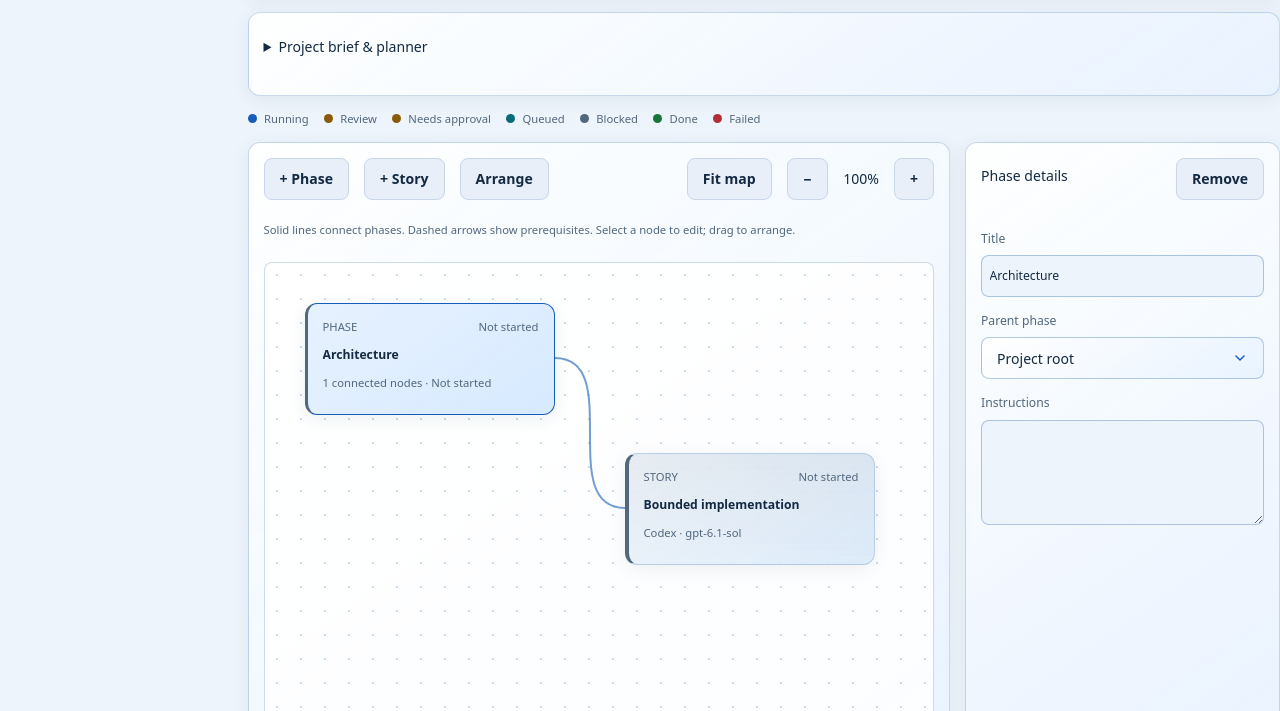
it: edits the visual map without starting a model; saved revisions retain assignments and links
(page scrolled)
Step 1. Click the button with aria-label "story: Bounded implementation" → {"x": 750, "y": 508}, box [624,452,874,564]
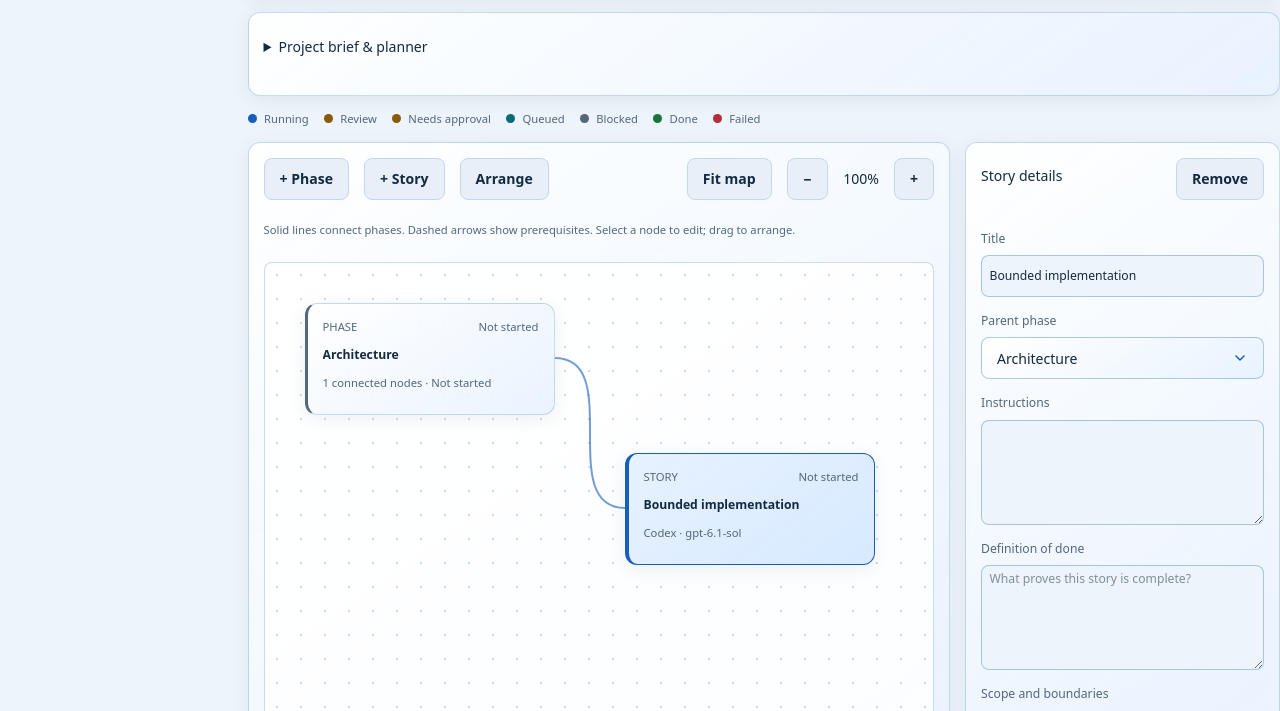
Step 2. Replace the text in the field labelled "Title" with "Reviewed slice" → {"x": 1122, "y": 276}, box [981,255,1264,297]
(page scrolled)
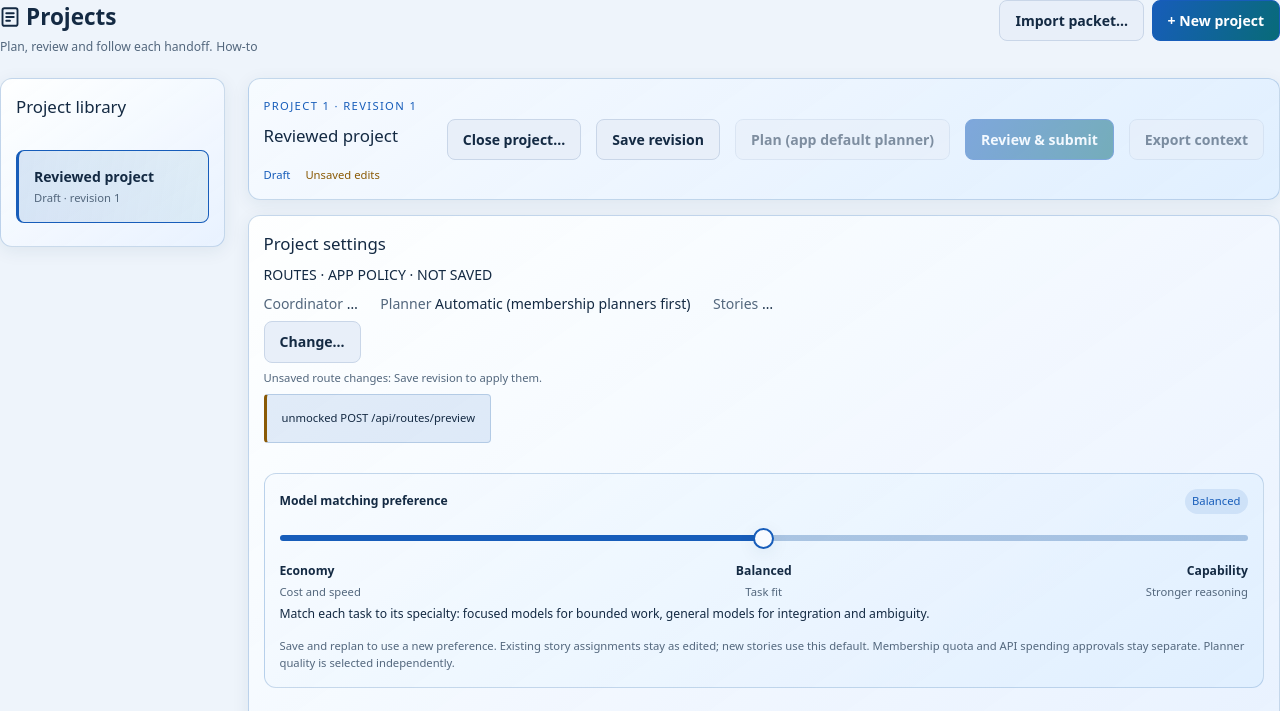
Now the text "Unsaved edits" is shown, box [305,167,380,182]
Now the button "Plan (app default planner)" is disabled, box [735,119,950,160]
Step 3. Click the button "Save revision" → {"x": 658, "y": 139}, box [596,119,720,160]
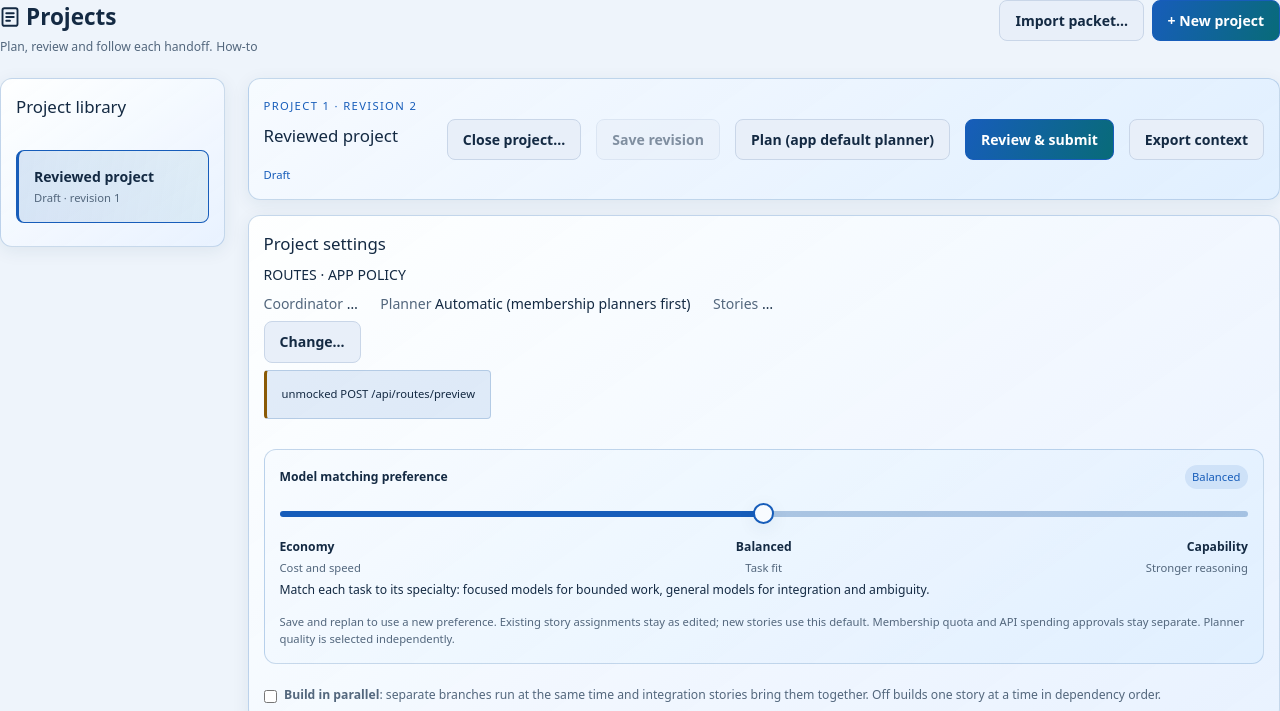
Now the text "REVISION 2" is shown, box [264,98,417,113]
